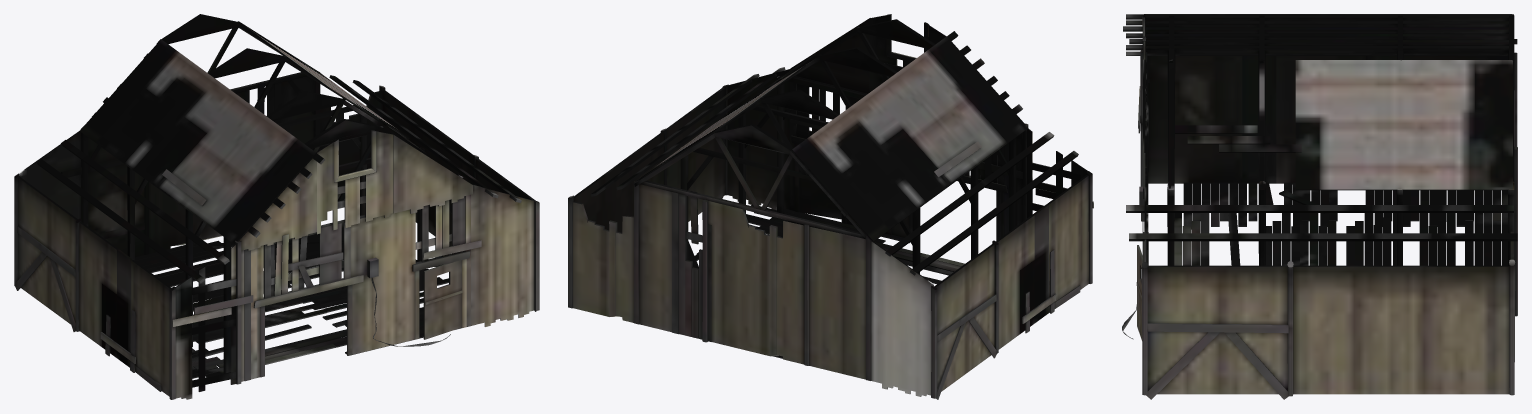
Rendered from old-barn.lod1.glb.
The picture shows the model from 3 angles, left to right: view 1: azimuth 30°, elevation 25°; view 2: azimuth 150°, elevation 25°; view 3: azimuth 270°, elevation 25°; orthographic projection. The views are drawn at different scales.
Parts seen in each view (by area): view 1: Object002_Object002_mtl_0; view 2: Object002_Object002_mtl_0; view 3: Object002_Object002_mtl_0.
Part boxes in pixels (x1,y1,x2,y2): Object002_Object002_mtl_0: (14,14,539,399); Object002_Object002_mtl_0: (568,14,1093,399); Object002_Object002_mtl_0: (1122,14,1517,399).
Size of the model in its own units: 14.67 by 8.76 by 11.44.
1 material, 1 textured.
